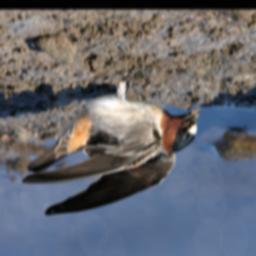Swallow: (22, 65, 200, 217)
